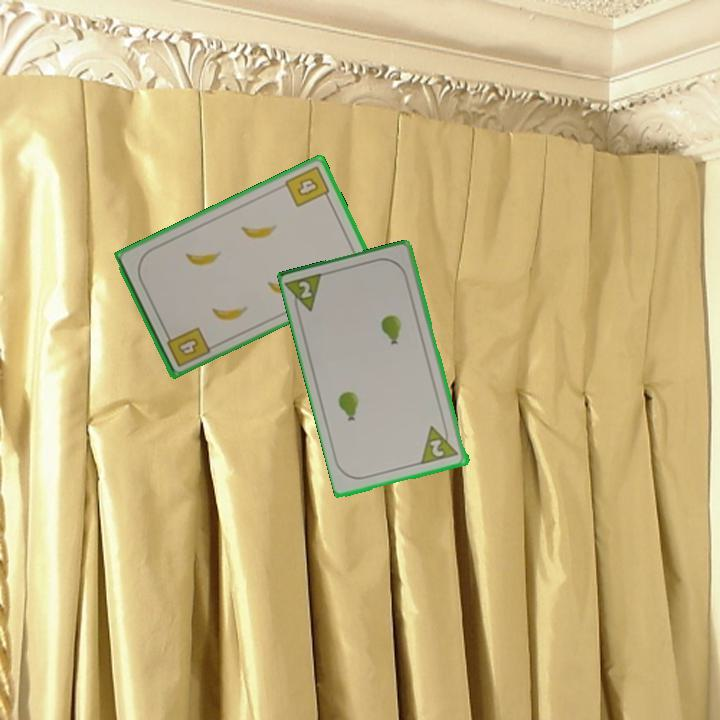2p: (284, 269, 328, 319), (418, 420, 462, 467)
4b: (281, 162, 334, 210), (162, 323, 213, 370)
